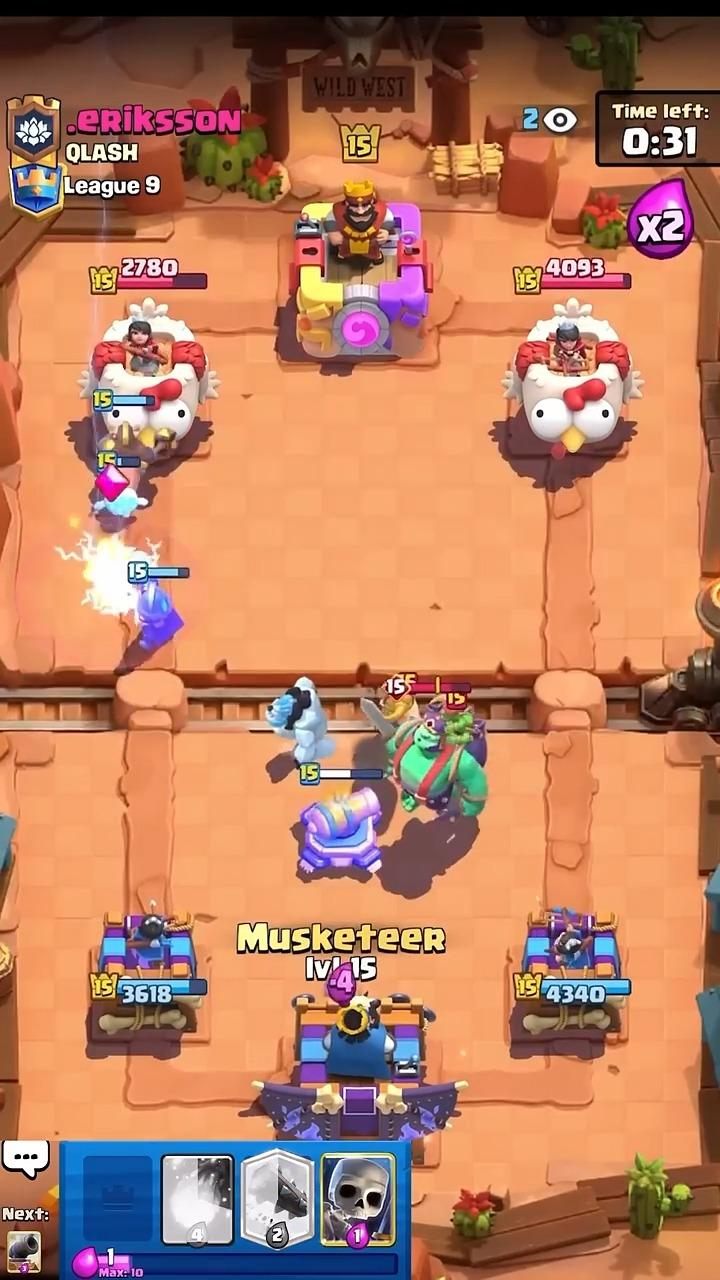cannon: (301, 787, 380, 871)
elite barbarians: (361, 693, 418, 740)
goblin giant: (387, 700, 486, 816)
hog rider: (100, 423, 169, 496)
ice golem: (265, 677, 333, 767)
ice spirit: (96, 486, 147, 518)
musketeer: (137, 575, 183, 651)
